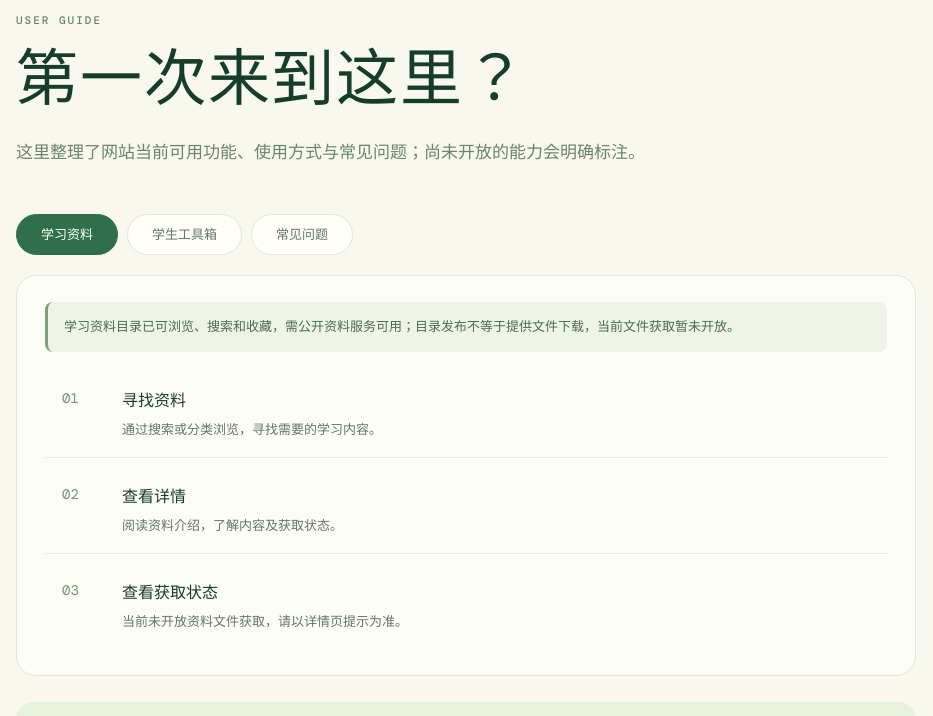
Test: R15-3 capability copy › describes the currently available catalog and local tools without planned-state copy
This screenshot has width=933, height=716.
Expected: the text "学习资料目录已可浏览、搜索和收藏，需公开资料服务可用；目录发布不等于提供文件下载，当前文件获取暂未开放。" is shown, [45,302,887,352]
Click the tab "学生工具箱" at coordinates (184, 234), box [127,214,242,255]
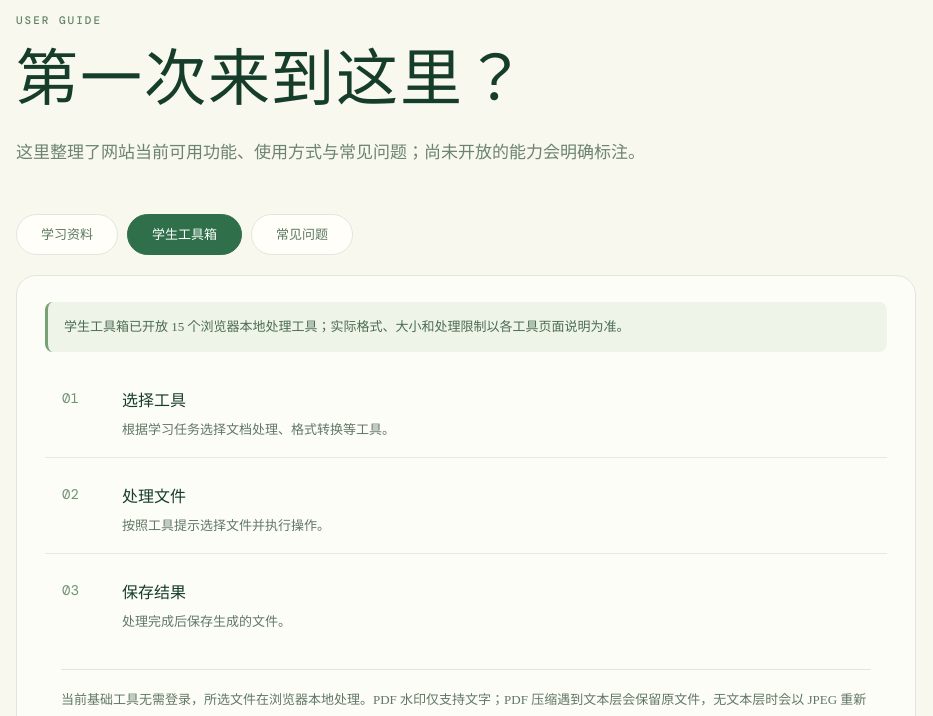
Expected: the text "学生工具箱已开放 15 个浏览器本地处理工具；实际格式、大小和处理限制以各工具页面说明为准。" is shown, [45,302,887,352]
